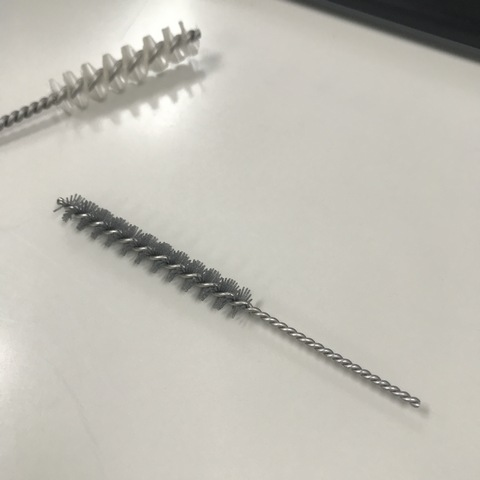Twist Brush-A: (50, 191, 427, 410)
Twist Brush-B: (1, 16, 207, 138)
